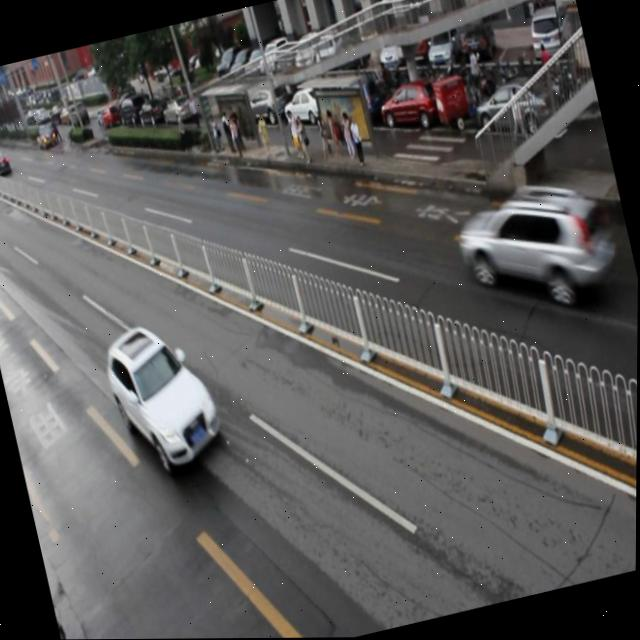car: (446, 166, 624, 330), (99, 313, 228, 474)
